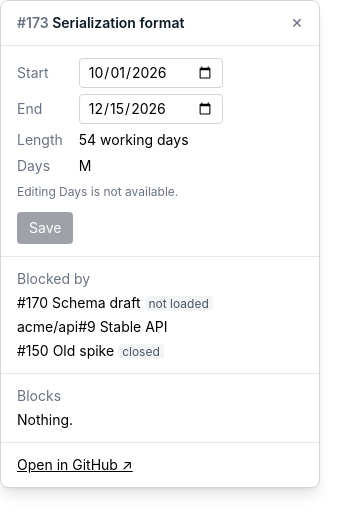
TaskDetail › editing dates › Revert puts the dates back
Type "2026-10-05" into the date field with id "detail-start" at [151, 73], box x1=79 y1=58 x2=223 y2=88
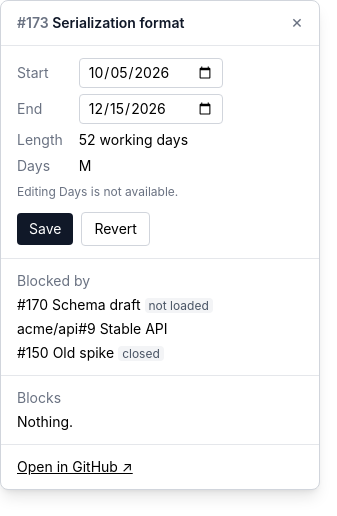
Click the button "Revert" at [116, 229], box x1=81 y1=212 x2=150 y2=246
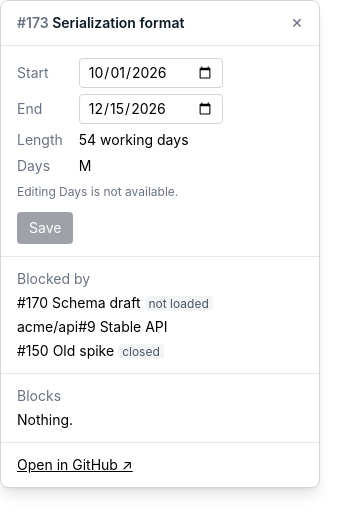
Now the date field with id "detail-start" holds "2026-10-01", box x1=79 y1=58 x2=223 y2=88
